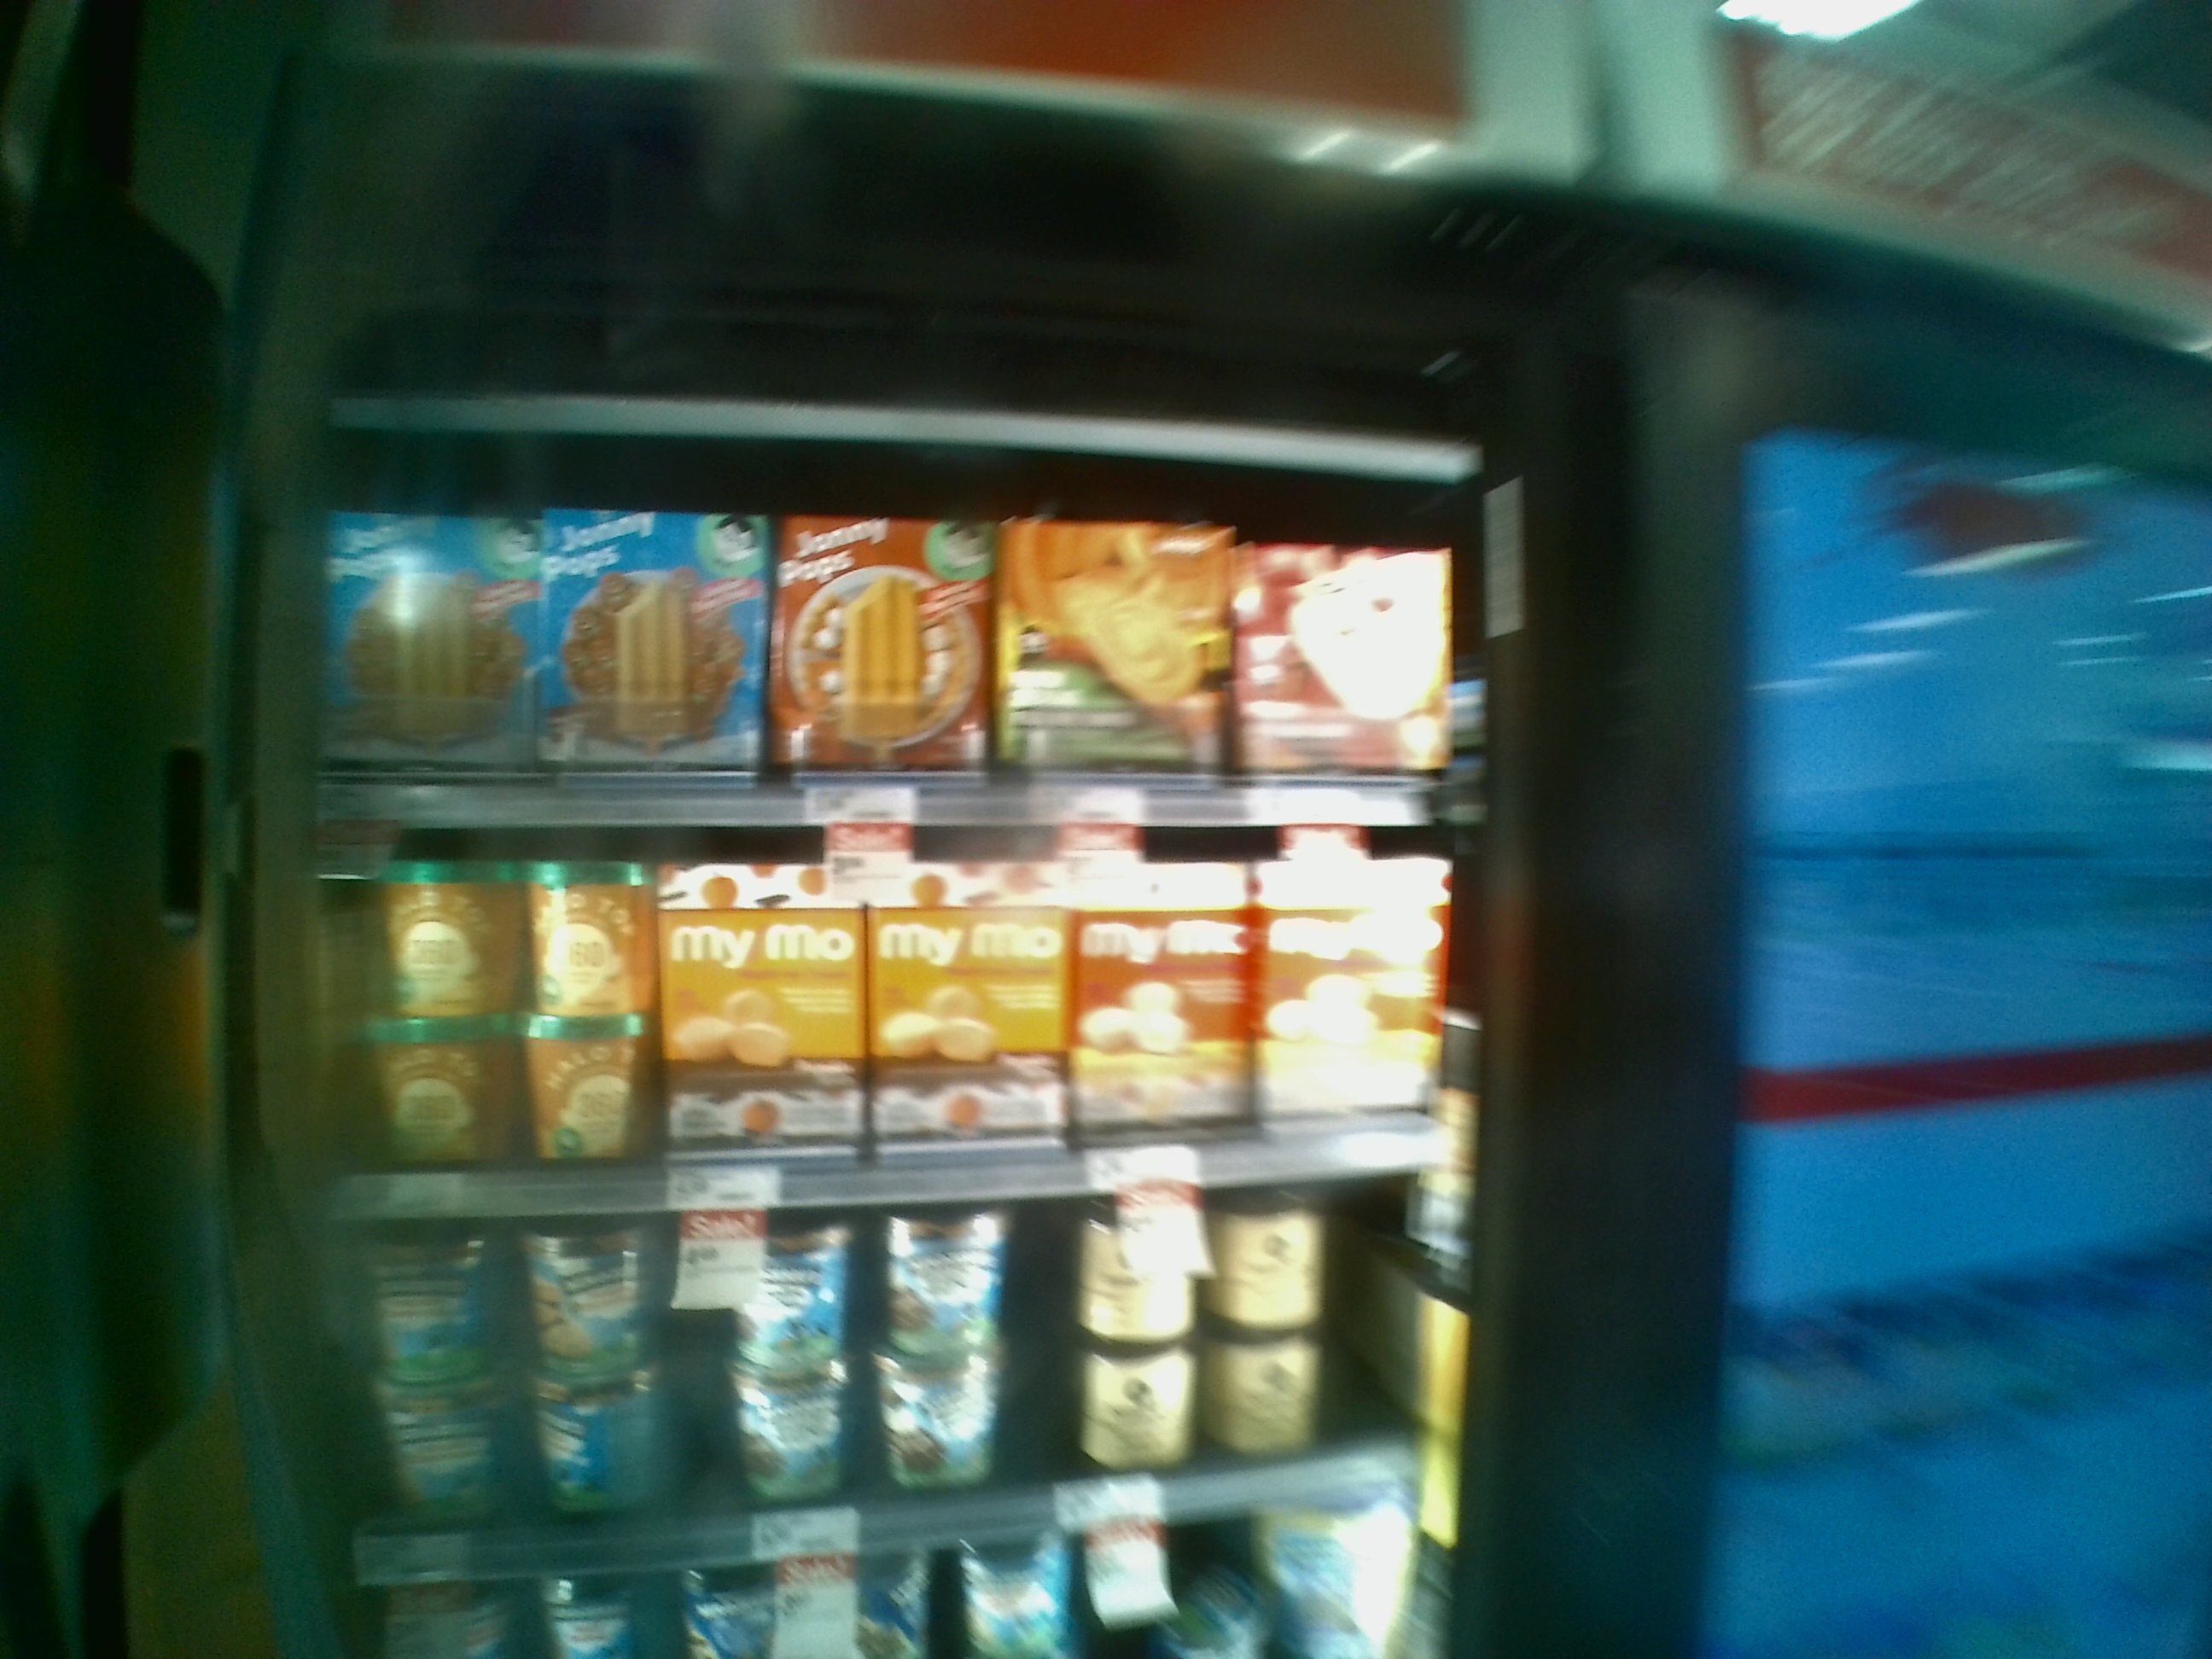shelf: (265, 781, 1468, 1192), (307, 416, 1501, 828), (268, 1171, 1451, 1527)
